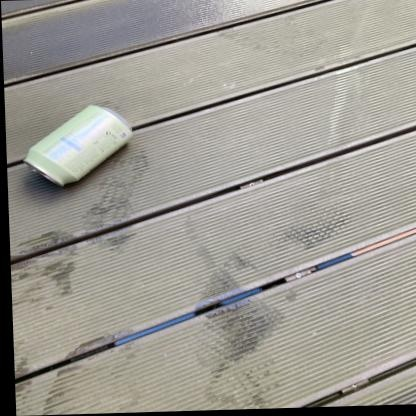trash: (25, 105, 131, 185)
